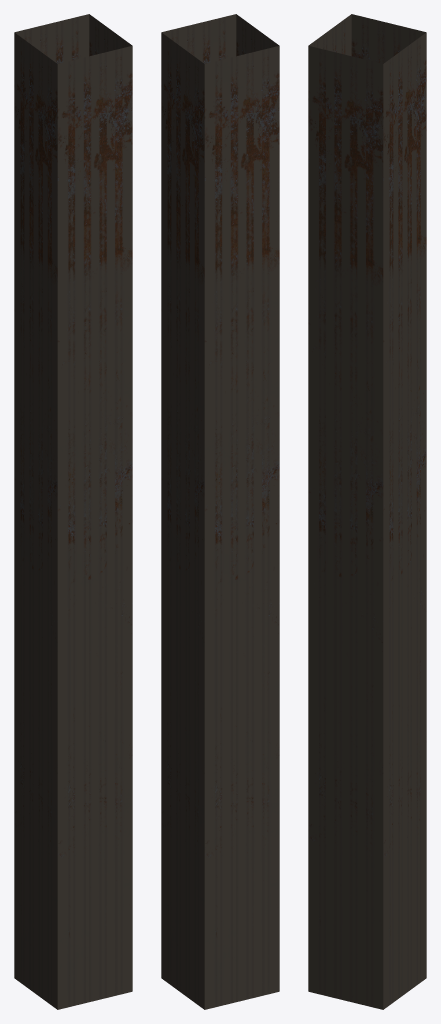
Rendered from Metal_Column_Small_Center.gltf.
3 renders of one model, left to right at view 1: azimuth 30°, elevation 25°; view 2: azimuth 210°, elevation 25°; view 3: azimuth 330°, elevation 25°, orthographic.
Parts seen in each view (by area): view 1: Metal_Column_Small_Center; view 2: Metal_Column_Small_Center; view 3: Metal_Column_Small_Center.
Boxes of the visible parts, x1,y1,x2,y2 form: Metal_Column_Small_Center: [14, 14, 132, 1009]; Metal_Column_Small_Center: [161, 14, 279, 1009]; Metal_Column_Small_Center: [308, 14, 426, 1009].
Size of the model in its own units: 0.2489 by 3 by 0.2491.
Materials: 1 (1 with a texture image).
